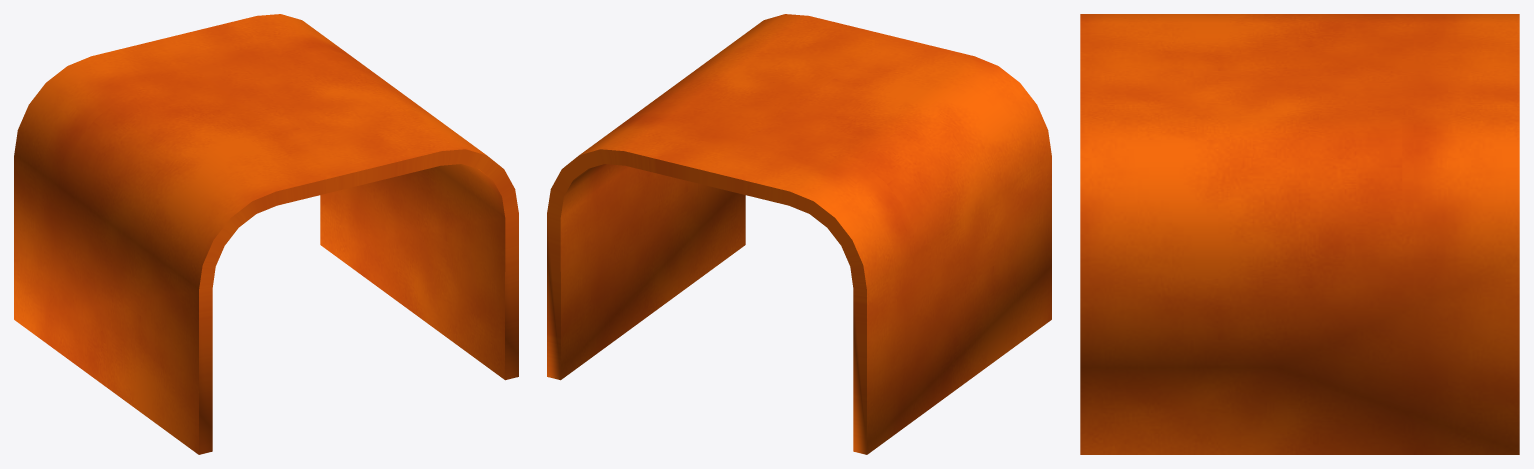
The model's file is chair_2_o.fbx.
3 views of the same model, side by side, from view 1: azimuth 30°, elevation 25°; view 2: azimuth 150°, elevation 25°; view 3: azimuth 270°, elevation 25° (orthographic). The views are drawn at different scales.
Visible parts, largest first — view 1: chair_2_o; view 2: chair_2_o; view 3: chair_2_o.
Boxes of the visible parts, x1,y1,x2,y2 form: chair_2_o: (14, 14, 518, 454); chair_2_o: (547, 14, 1051, 454); chair_2_o: (1080, 14, 1519, 454).
Size of the model in its own units: 0.6961 by 0.5083 by 0.6961.
